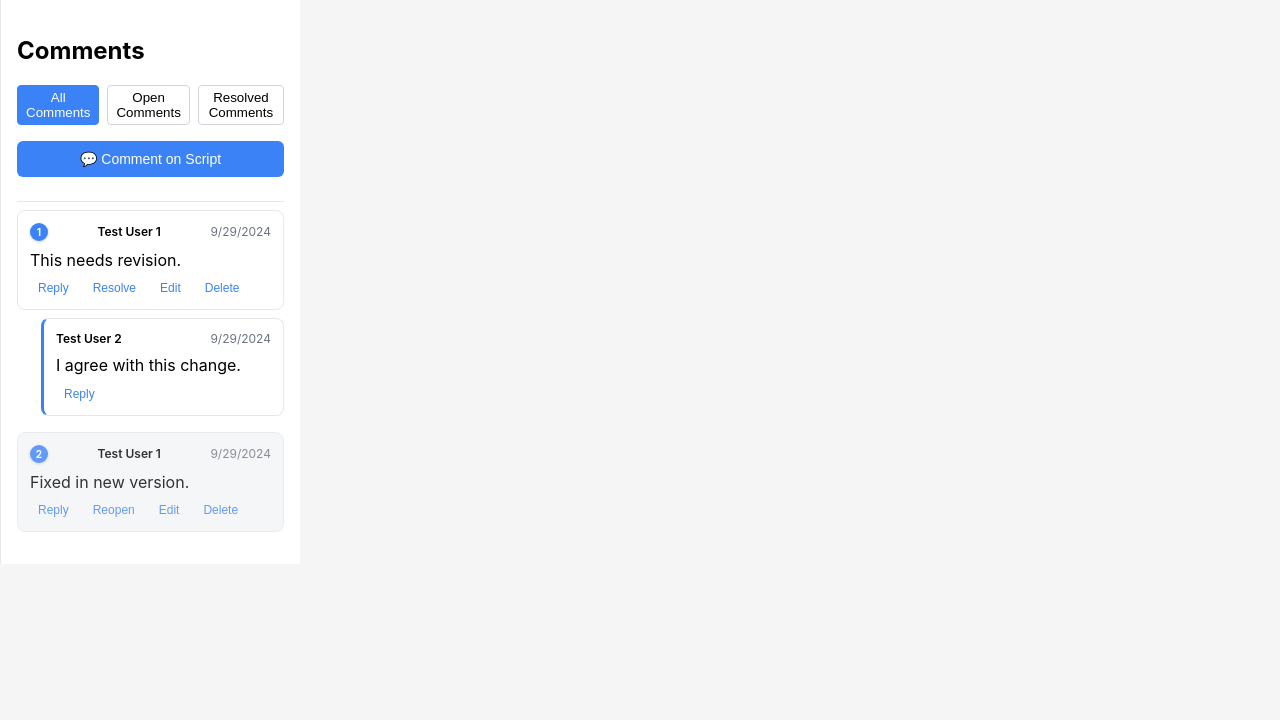
Test: CommentSidebar › Delete Functionality - TDD (Fixed: Mock pattern corrected) › should show confirmation dialog when delete button is clicked
This screenshot has width=1280, height=720.
// Click delete button
Click the button "Delete" below "This needs revision.": (222, 288) x1=197 y1=279 x2=247 y2=297
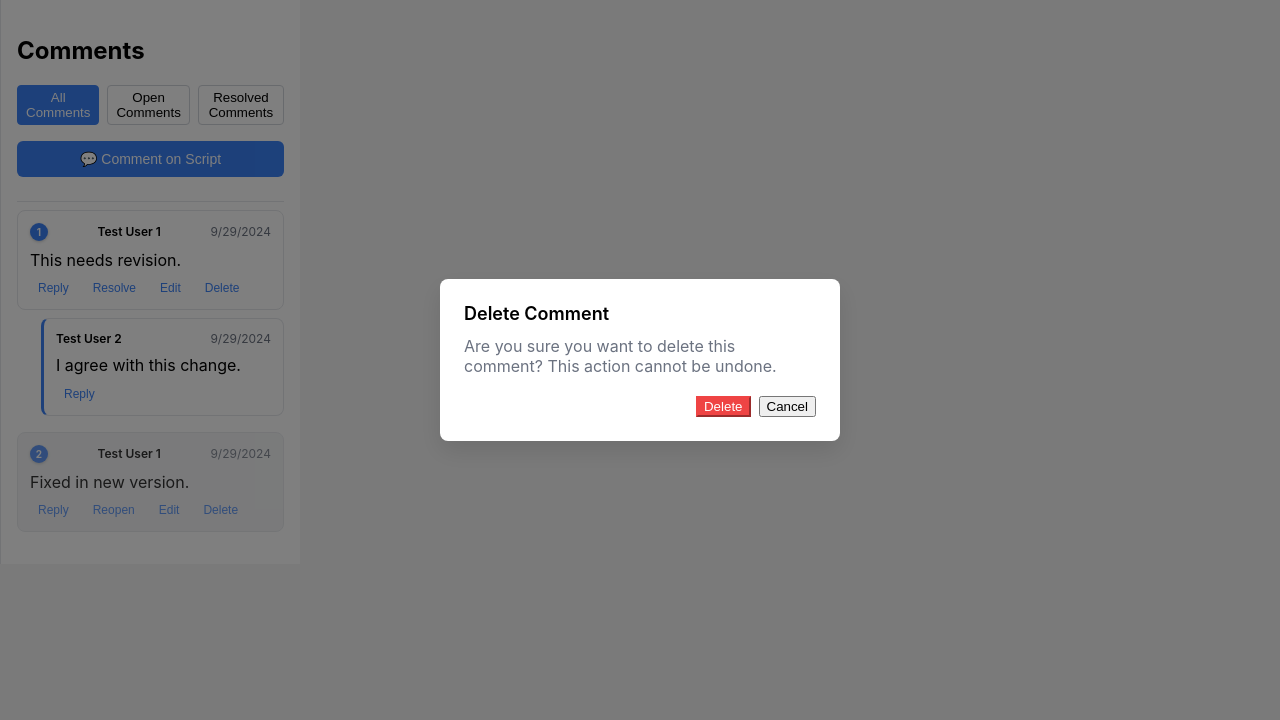
Now the dialog "Delete Comment" is shown
Now the text "Are you sure you want to delete this comment" is shown, box x1=464 y1=336 x2=777 y2=376
Now the button with aria-label "confirm delete" is shown, box x1=696 y1=396 x2=750 y2=417
